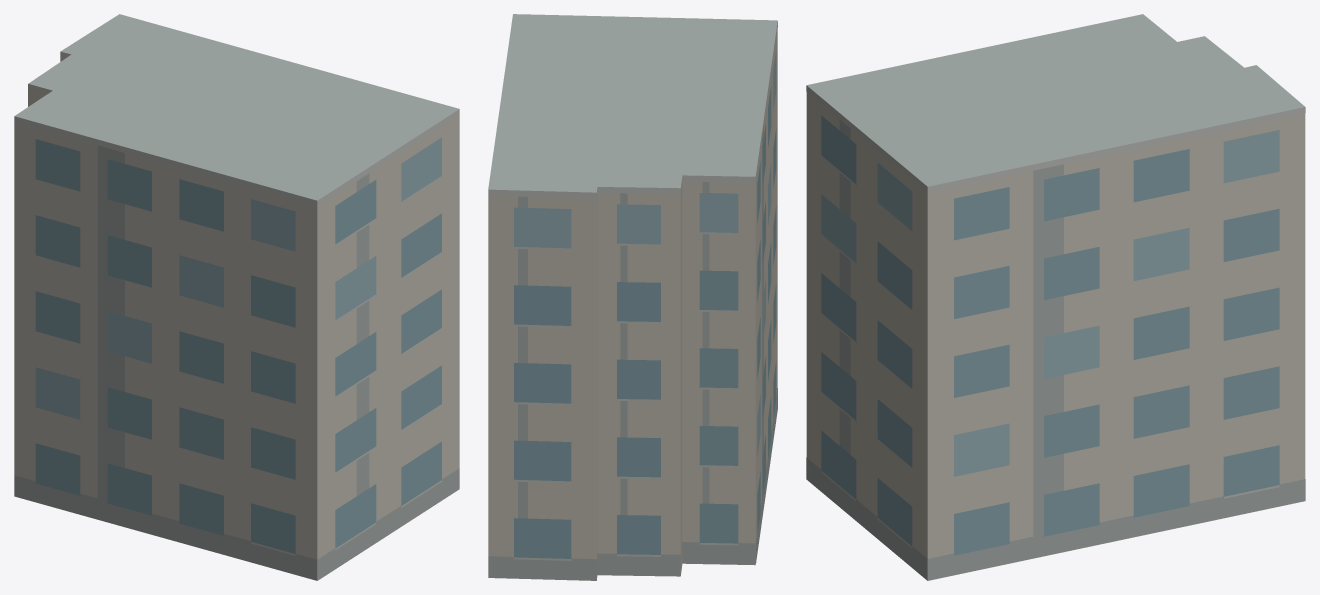
Rendered from survey-upis-32801188.glb.
3 renders of one model, left to right at view 1: azimuth 30°, elevation 25°; view 2: azimuth 150°, elevation 25°; view 3: azimuth 270°, elevation 25°, orthographic. The views are drawn at different scales.
Parts seen in each view (by area): view 1: survey-upis-32801188.tmp; view 2: survey-upis-32801188.tmp; view 3: survey-upis-32801188.tmp.
Boxes of the visible parts, <box> form: survey-upis-32801188.tmp: <box>14,14,459,580</box>; survey-upis-32801188.tmp: <box>488,14,777,580</box>; survey-upis-32801188.tmp: <box>806,14,1305,580</box>.
Bounding box in the file's own units: 14.41 × 15.32 × 17.59.
